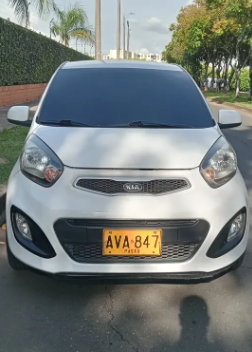placa: (102, 228, 162, 257)
